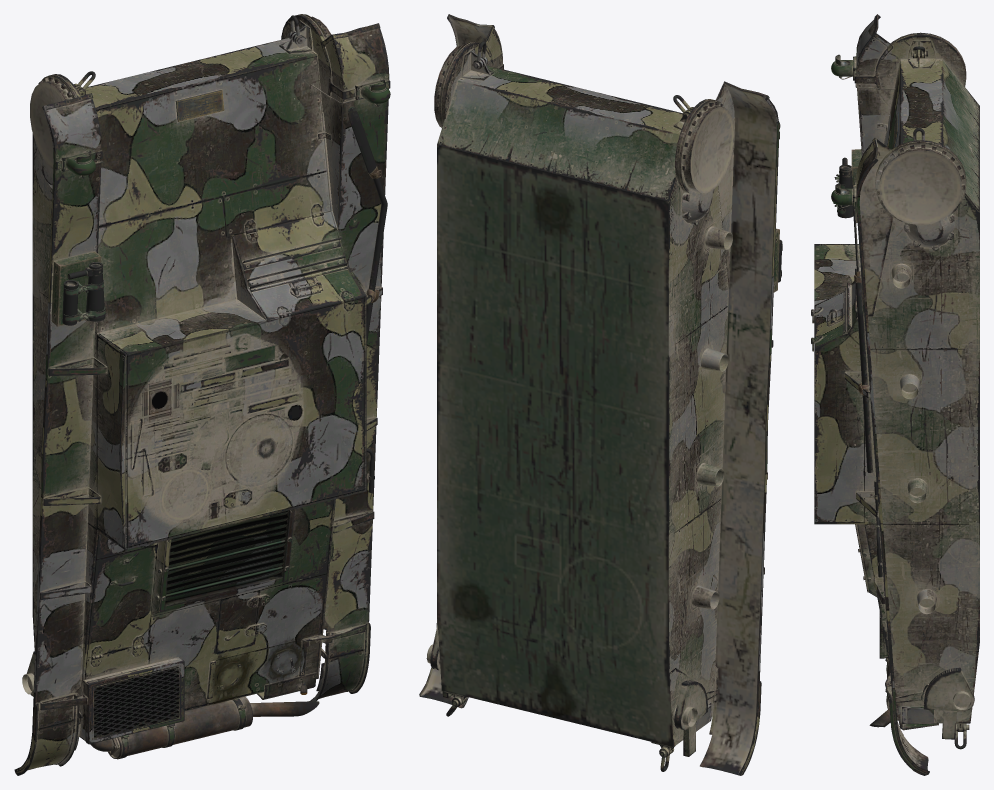
File: Hull.glb
The picture shows the model from 3 angles, left to right: view 1: azimuth 30°, elevation 25°; view 2: azimuth 150°, elevation 25°; view 3: azimuth 270°, elevation 25°; orthographic projection. The views are drawn at different scales.
Parts seen in each view (by area): view 1: set_0_group_0; view 2: set_0_group_0; view 3: set_0_group_0.
Boxes of the visible parts, x1=… form: set_0_group_0: x1=14, y1=14, x2=390, y2=775; set_0_group_0: x1=419, y1=14, x2=782, y2=775; set_0_group_0: x1=811, y1=14, x2=979, y2=775.
Size of the model in its own units: 2.29 by 4.56 by 1.12.
1 material, 1 textured.
